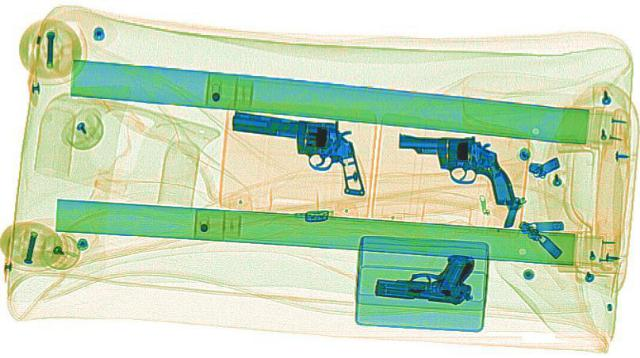Gun: (206, 109, 390, 193), (394, 133, 510, 203), (369, 243, 485, 304)
